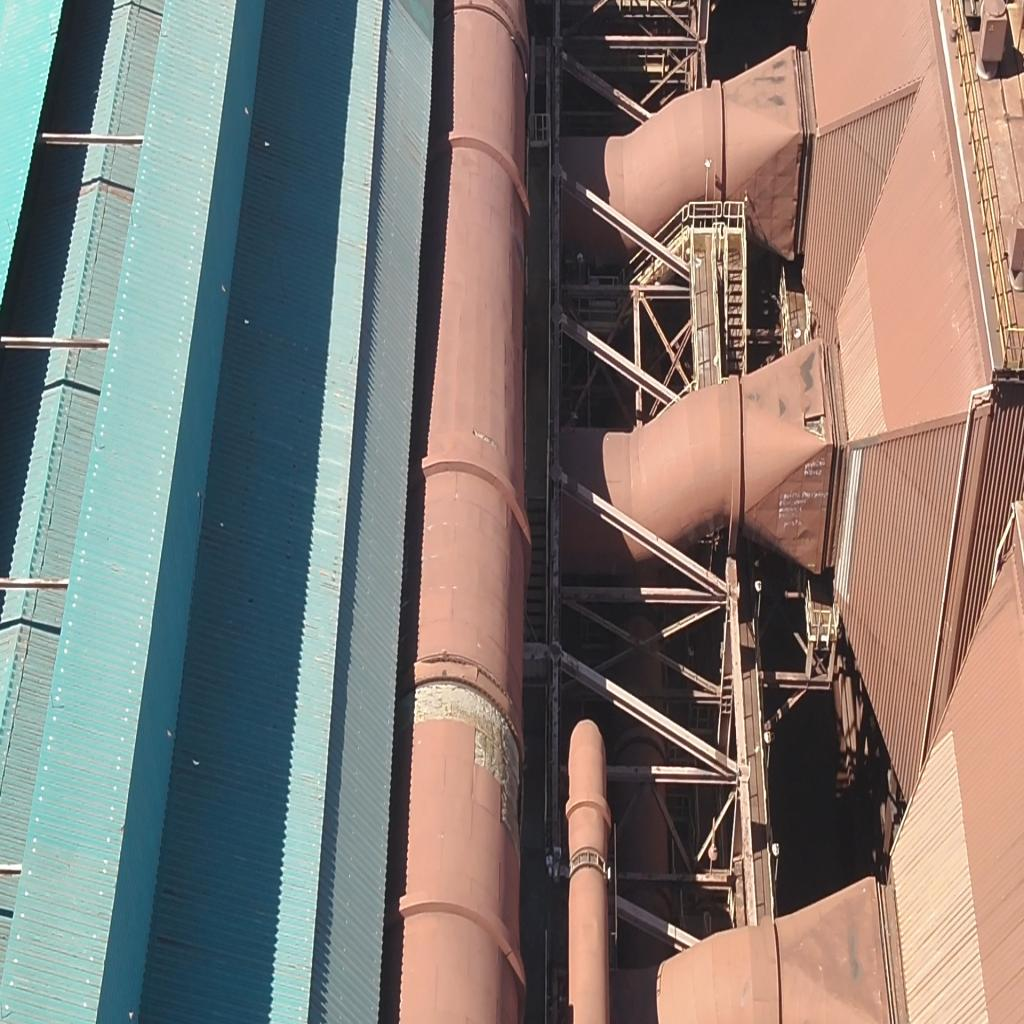Failures: (407, 670, 525, 852), (804, 400, 828, 450)
